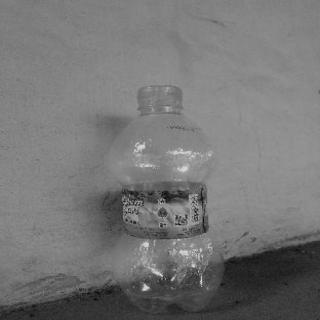plastic_bottles: (107, 83, 220, 317)
